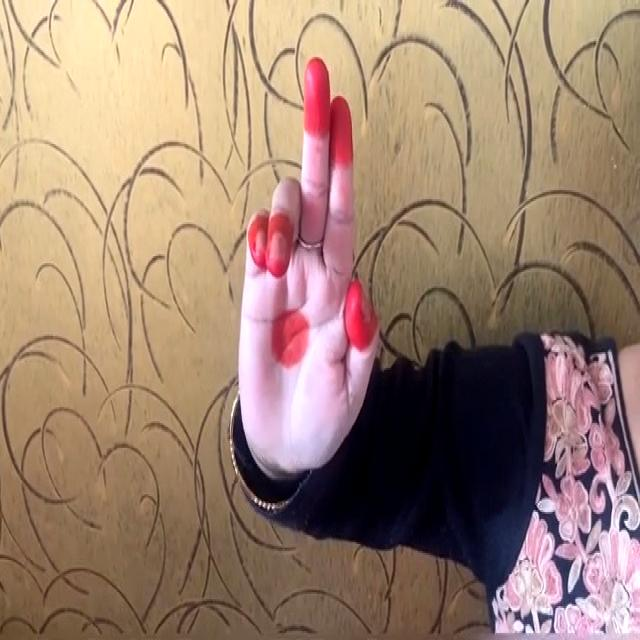Ardhapataka: (213, 40, 389, 506)
